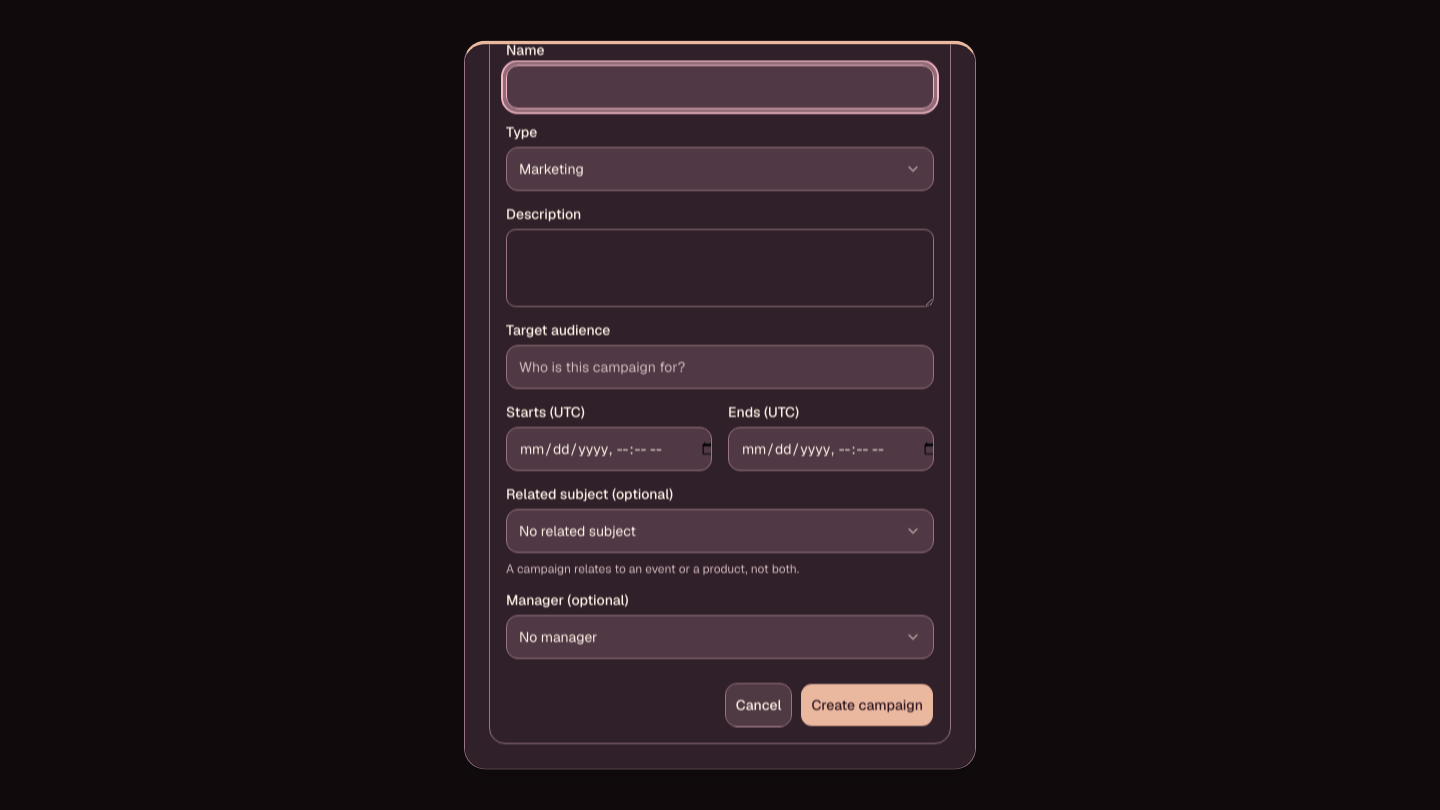
Test: CreateCampaignDialog › blocks submit and shows a field error when the name is blank
(page scrolled)
Click the button "Create campaign": click(867, 705) x1=800 y1=683 x2=934 y2=727
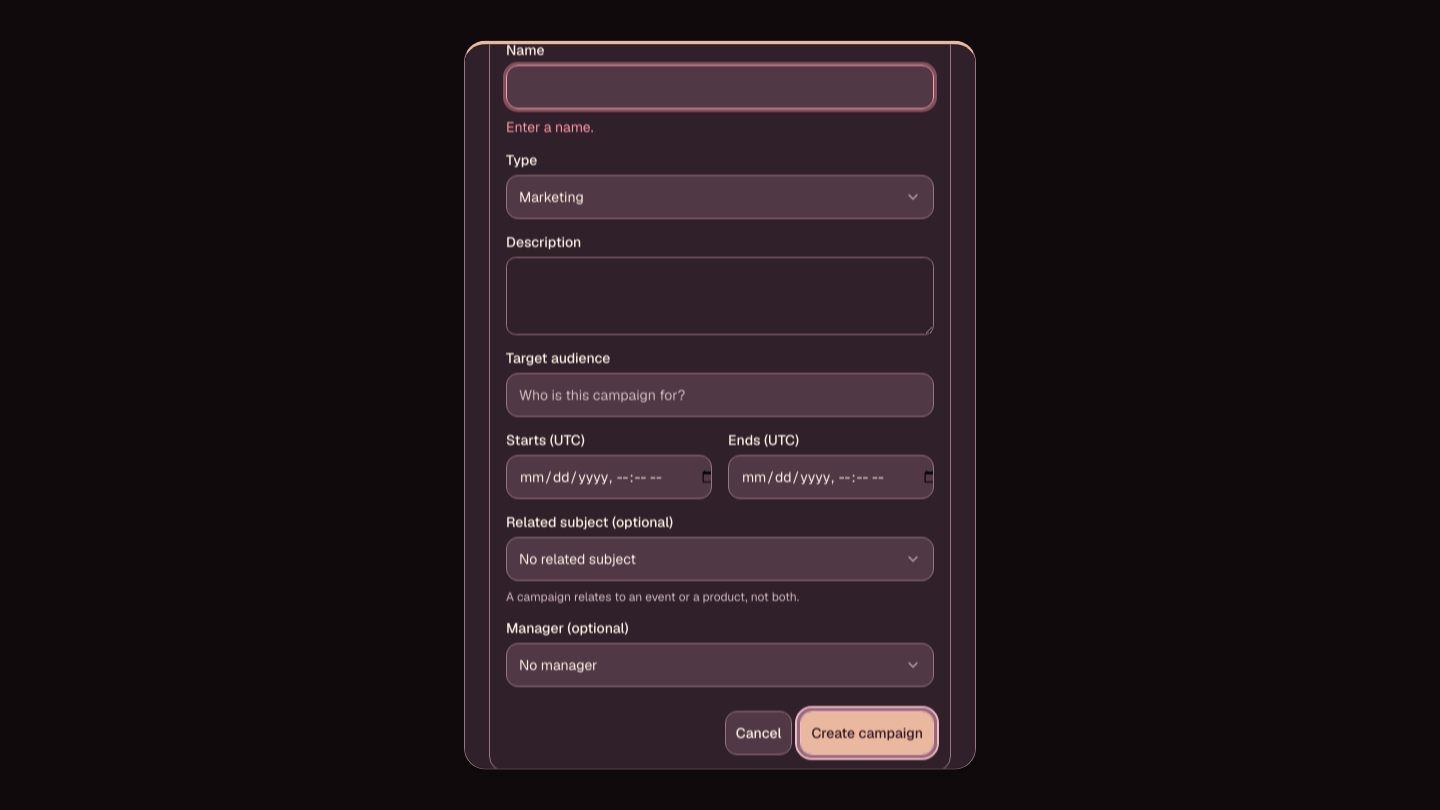
expect the text "Enter a name." is shown: met, box x1=506 y1=118 x2=594 y2=136
